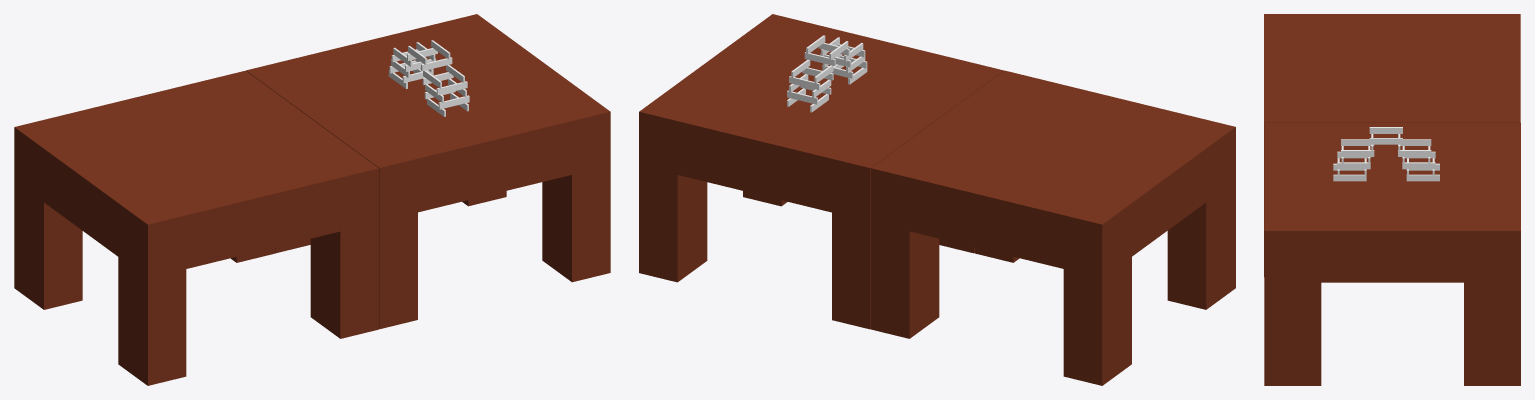
The model's file is keva_bridge_sideways.dae.
The picture shows the model from 3 angles, left to right: view 1: azimuth 30°, elevation 25°; view 2: azimuth 150°, elevation 25°; view 3: azimuth 270°, elevation 25°; orthographic projection. The views are drawn at different scales.
Visible parts, largest first — view 1: base (×7); view 2: base (×7); view 3: base (×5), SketchUp (×7).
Part boxes in pixels (box(x1,y1,x2,y2)): base (×7): box(14, 14, 610, 385); base (×7): box(639, 14, 1235, 385); base (×5): box(1264, 14, 1520, 385); SketchUp (×7): box(1333, 127, 1435, 181).
Bounding box in the file's own units: 1.8 × 0.9009 × 0.7657.
